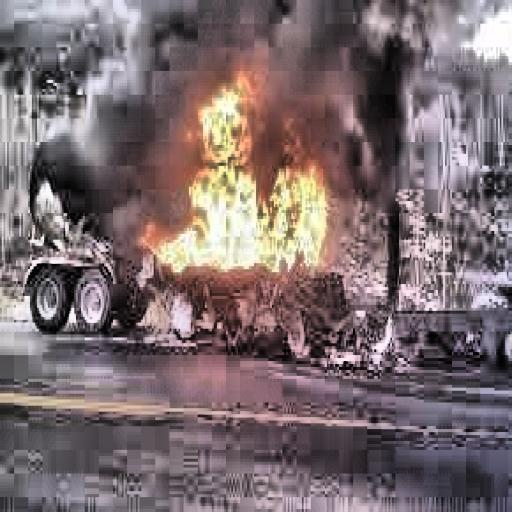fire: (146, 74, 328, 290)
